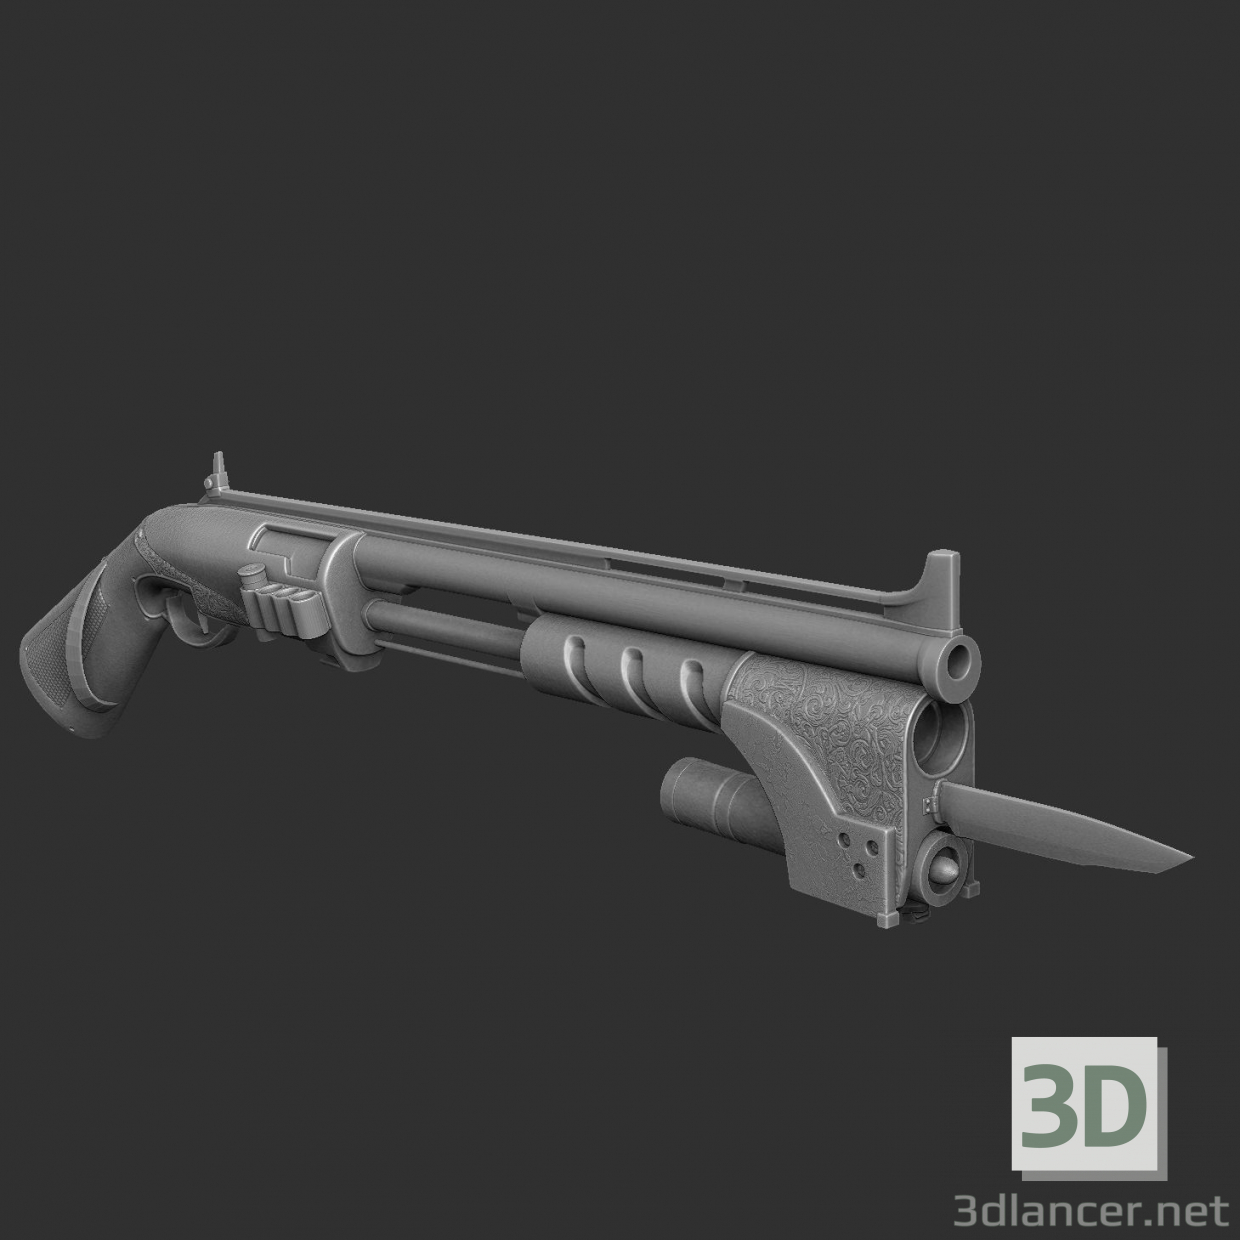weapon: (9, 451, 1200, 935)
